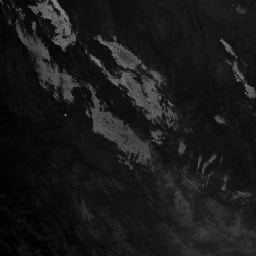Target: (62, 113, 67, 118)
